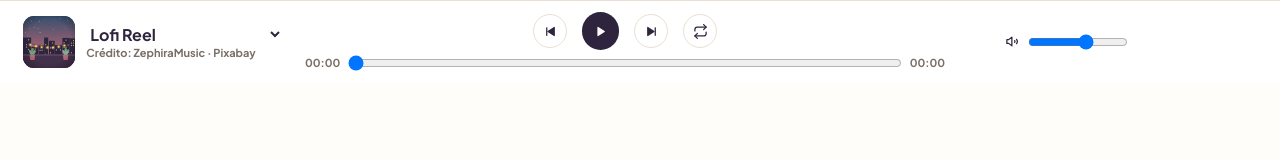
it: LofiPlayerBar › "Próxima música de fundo" avança uma faixa; "Faixa anterior" volta
This screenshot has width=1280, height=160.
Click the button named "Próxima música de fundo".
click(651, 31)  # box [634,14,668,48]
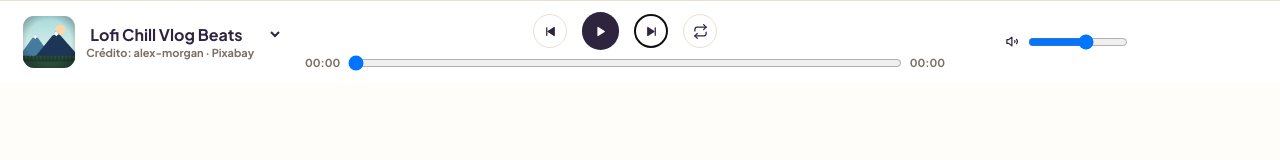
Expected: the dropdown named "Escolher faixa lo-fi" shows "Lofi Chill Vlog Beats", [86,23,283,46]
Click the button named "Faixa anterior".
click(550, 31)  # box [533,14,567,48]
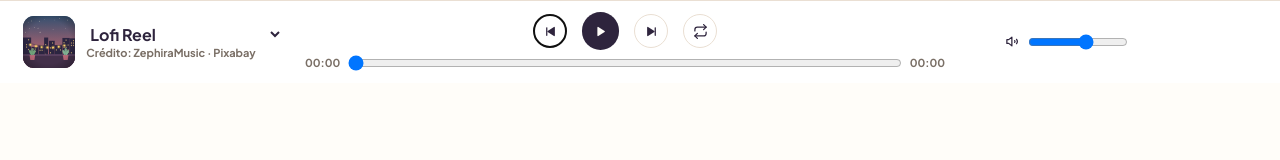
Expected: the dropdown named "Escolher faixa lo-fi" shows "Lofi Reel", [86,23,283,46]
